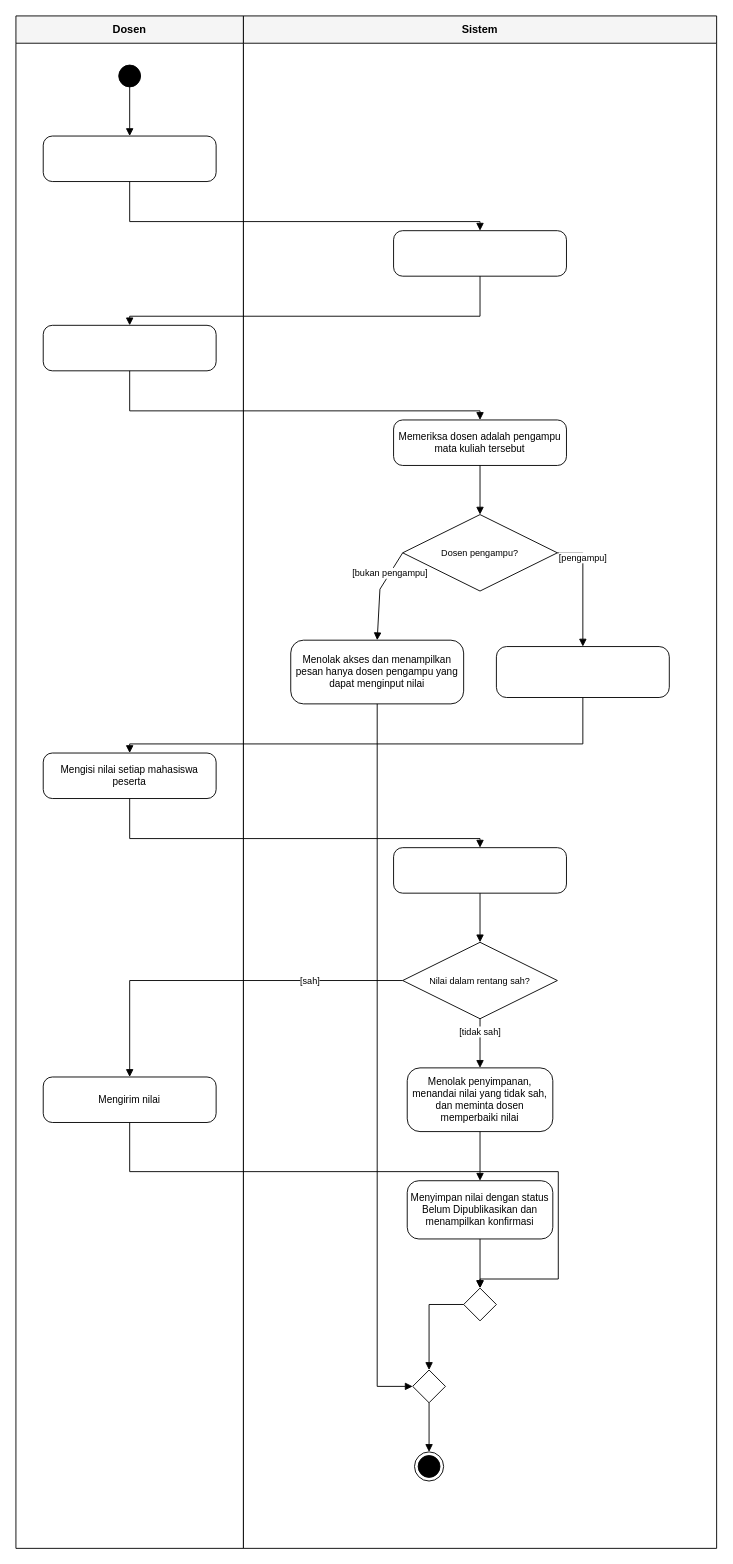
This 733x1564 diagram has some shape labels left out. The centre of each missing label's shape, as x and y in pixels:
Membuka fungsi Input Nilai Mata Kuliah: the point at 129,158
Memeriksa setiap nilai berada dalam rentang yang sah: the point at 479,870
Memilih mata kuliah yang akan diinput nilainya: the point at 129,347
Menampilkan daftar mahasiswa peserta beserta kolom nilai: the point at 582,672
Menampilkan daftar mata kuliah: the point at 479,253
